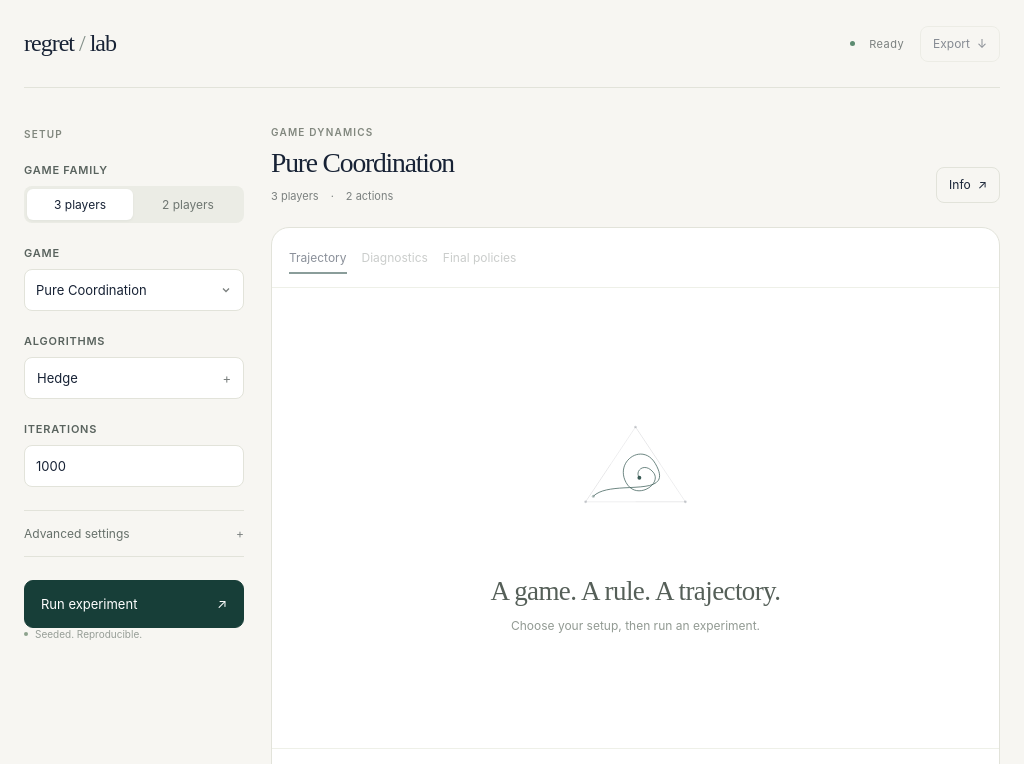
Scenario: research workspace › changes figures without starting a new experiment and keeps replay opt-in
Click the button "Run experiment ↗": coordinates (134, 604) [24, 580, 244, 628]
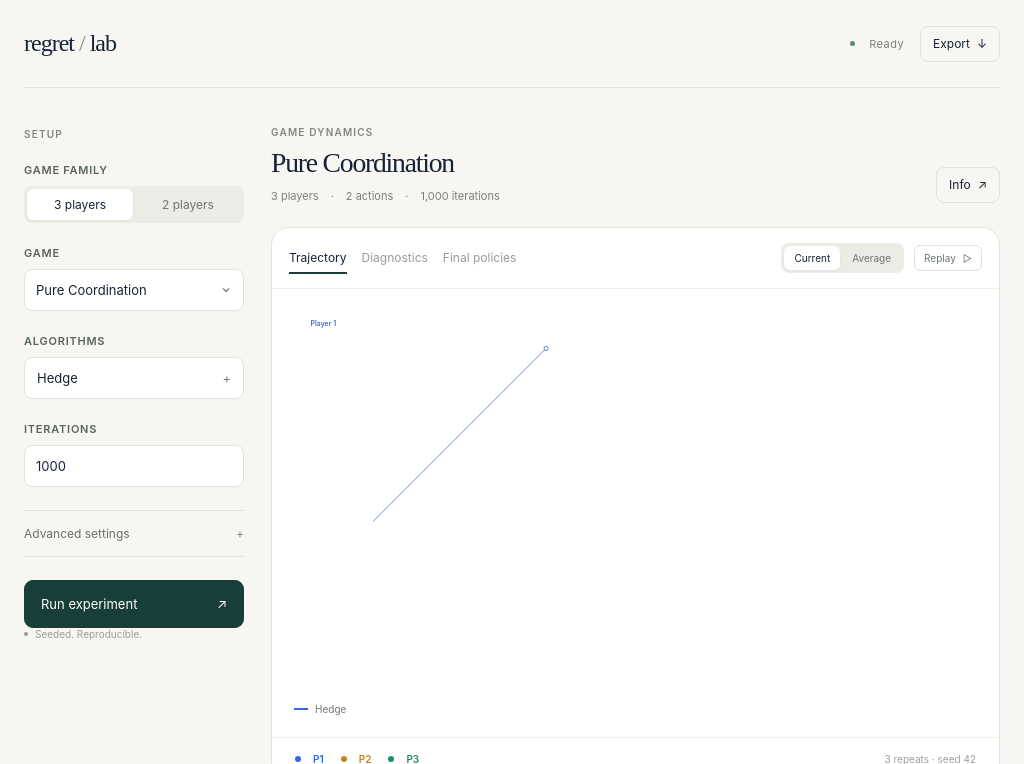
Now the element named "Strategy trajectories" is shown, box [294, 306, 626, 718]
Click the tab "Diagnostics": coordinates (395, 258) [362, 243, 428, 272]
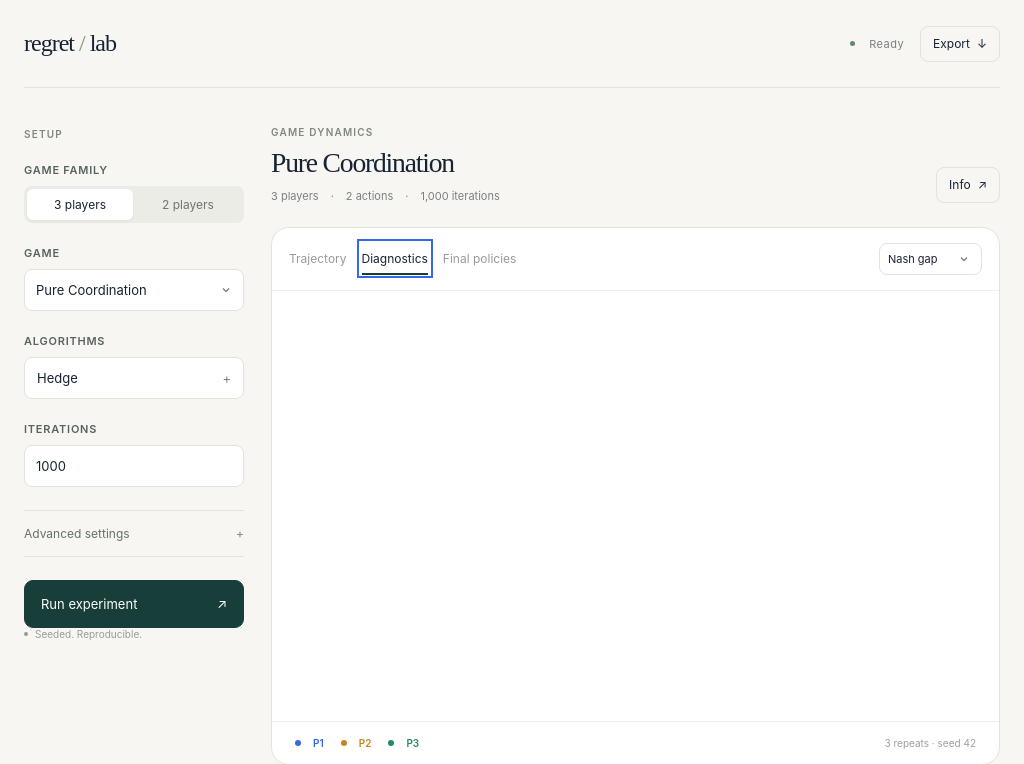
Click the tab "Trajectory": coordinates (318, 258) [289, 244, 346, 273]
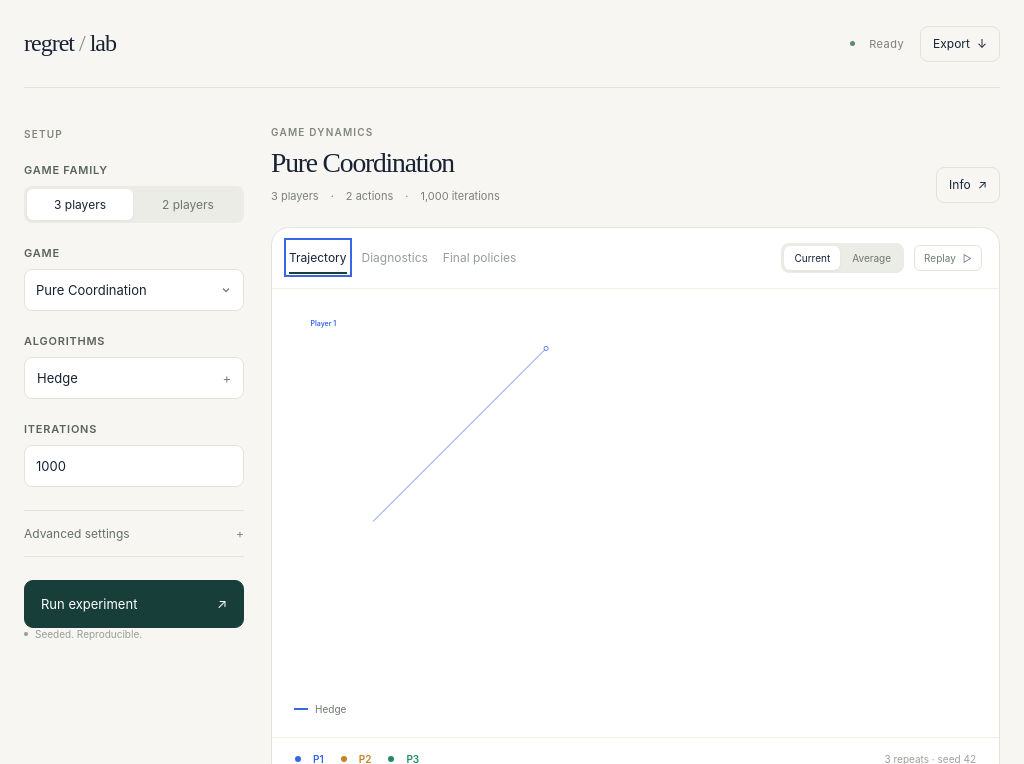
Click the button "Replay ▷": coordinates (948, 258) [914, 244, 982, 270]
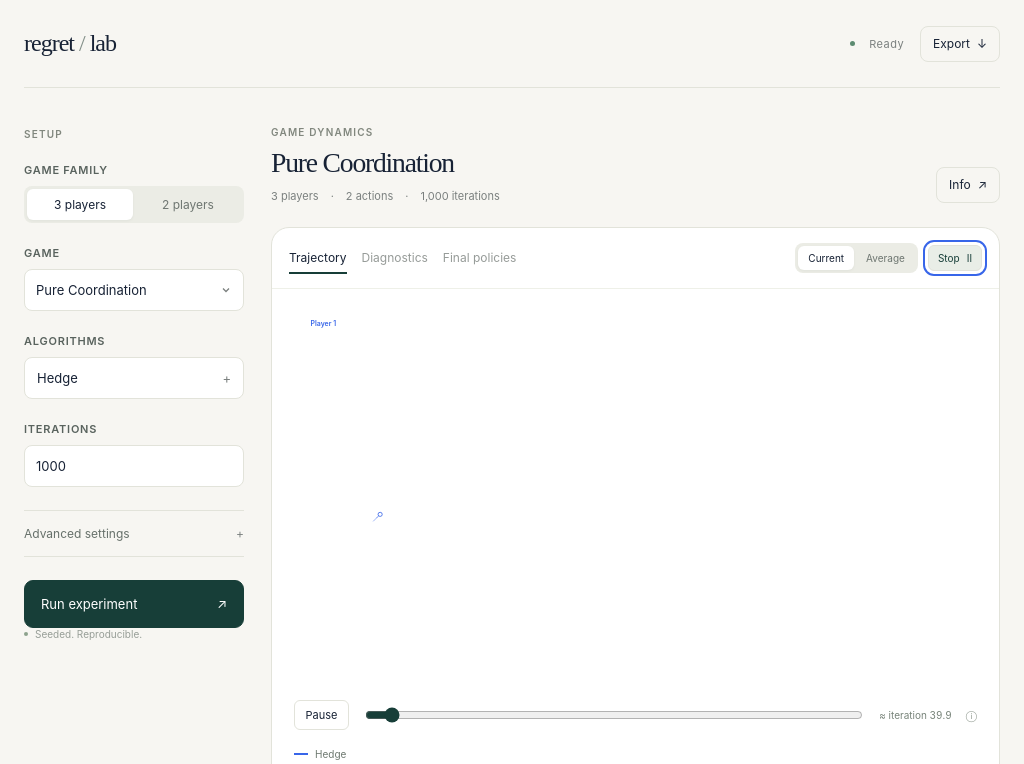
Now the slider named "Playback iteration" is shown, box [365, 702, 863, 726]
